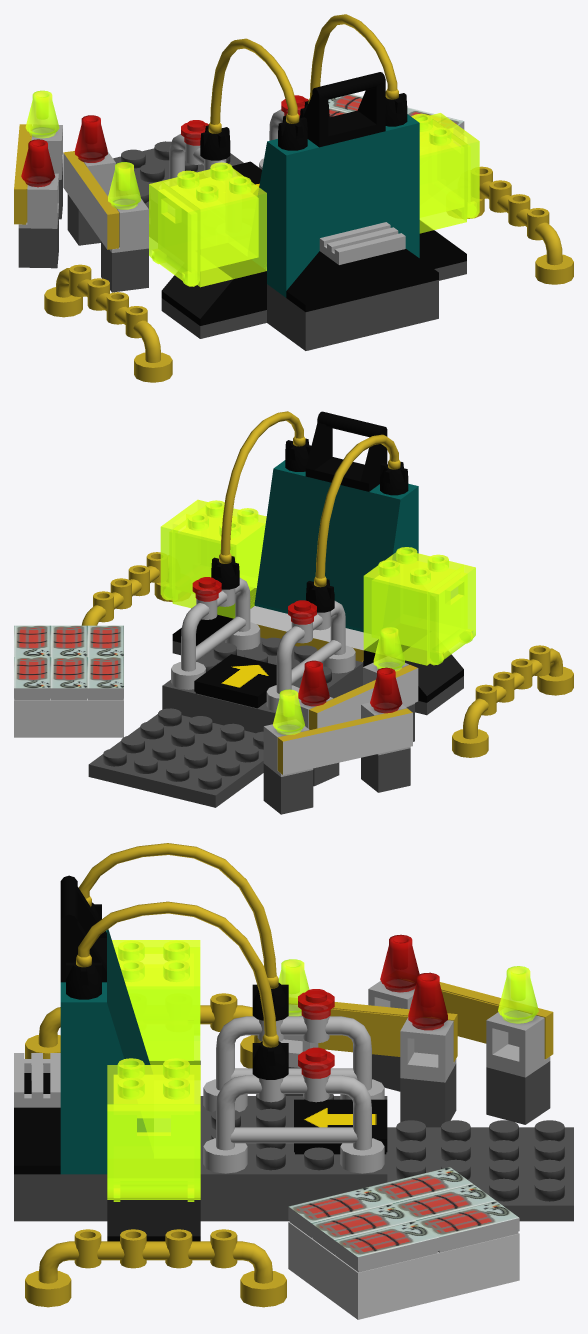
Rendered from ToolStore.fbx.
3 renders of one model, top to bottom at view 1: azimuth 30°, elevation 25°; view 2: azimuth 150°, elevation 25°; view 3: azimuth 270°, elevation 25°, orthographic. The views are drawn at different scales.
Visible parts, largest first — view 1: Store, Barrier2, Barrier1, RRack, LRack, Dynamite; view 2: Store, Dynamite, Barrier1, Barrier2, RRack, LRack; view 3: Store, Dynamite, Barrier1, Barrier2, LRack, RRack.
Part boxes in pixels (x1,y1,x2,y2): Store: (113, 14, 479, 350); Barrier2: (63, 115, 148, 292); Barrier1: (14, 90, 62, 268); RRack: (44, 264, 172, 382); LRack: (467, 166, 573, 284); Dynamite: (328, 94, 464, 129); Store: (88, 411, 475, 807); Dynamite: (14, 625, 123, 737); Barrier1: (263, 667, 412, 814); Barrier2: (298, 627, 418, 786); RRack: (452, 645, 573, 757); LRack: (81, 552, 172, 625); Store: (14, 843, 573, 1241); Dynamite: (288, 1167, 519, 1319); Barrier1: (368, 934, 553, 1124); Barrier2: (278, 959, 457, 1127); LRack: (25, 1229, 286, 1307); RRack: (25, 993, 261, 1068).
Bounding box in the file's own units: 0.0892 × 0.0478 × 0.0787.
